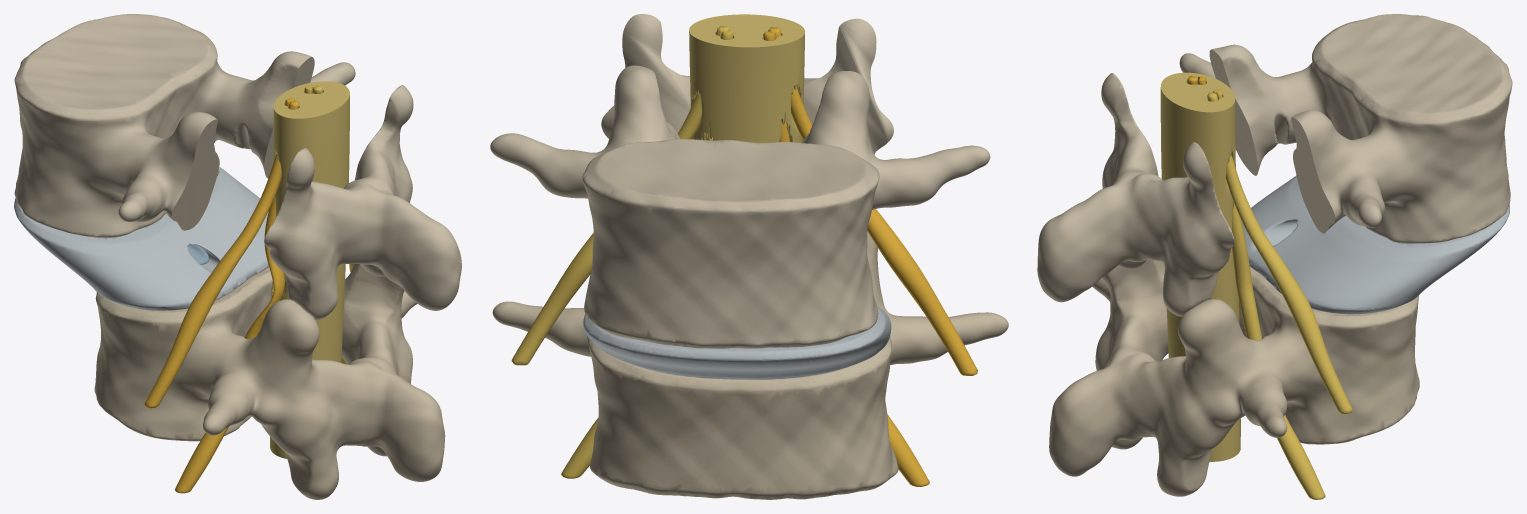
The model's file is spine_listhesis_3.glb.
3 views of the same model, side by side, from view 1: azimuth 30°, elevation 25°; view 2: azimuth 150°, elevation 25°; view 3: azimuth 270°, elevation 25° (orthographic). The views are drawn at different scales.
Parts seen in each view (by area): view 1: l5_vertebra, l4_vertebra, l4_posterior_arch, annulus_fibrosus, thecal_sac, l4_nerve_root_left, l5_nerve_root_left; view 2: l4_vertebra, l5_vertebra, thecal_sac, annulus_fibrosus, l4_posterior_arch, l4_nerve_root_left, nerve_roots, l5_nerve_root_left; view 3: l4_vertebra, l5_vertebra, l4_posterior_arch, annulus_fibrosus, thecal_sac, nerve_roots.
Boxes of the visible parts, x1,y1,x2,y2 form: l5_vertebra: (94,264,445,499); l4_vertebra: (14,14,355,238); l4_posterior_arch: (264,85,461,320); annulus_fibrosus: (14,167,268,310); thecal_sac: (270,81,349,458); l4_nerve_root_left: (144,100,299,408); l5_nerve_root_left: (175,97,294,493); l4_vertebra: (490,65,990,348); l5_vertebra: (492,231,1008,499); thecal_sac: (689,14,804,142); annulus_fibrosus: (583,305,891,379); l4_posterior_arch: (601,14,893,154); l4_nerve_root_left: (768,27,977,375); nerve_roots: (511,26,733,478); l5_nerve_root_left: (763,31,929,486); l4_vertebra: (1179,14,1512,243); l5_vertebra: (1049,260,1419,496); l4_posterior_arch: (1037,73,1234,316); annulus_fibrosus: (1241,175,1509,314); thecal_sac: (1160,72,1240,461); nerve_roots: (1207,89,1352,499).
Bounding box in the file's own units: 8.36 × 7.92 × 9.08.
